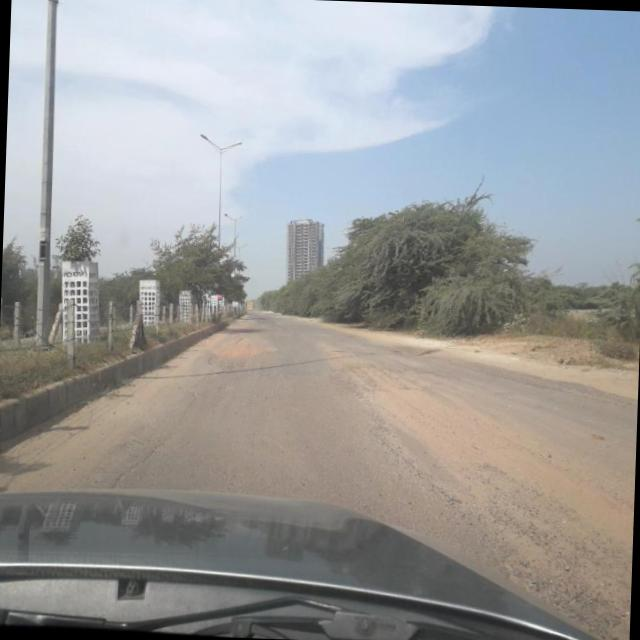crack: (104, 379, 198, 494)
pothole: (339, 354, 639, 590), (202, 324, 278, 371)
